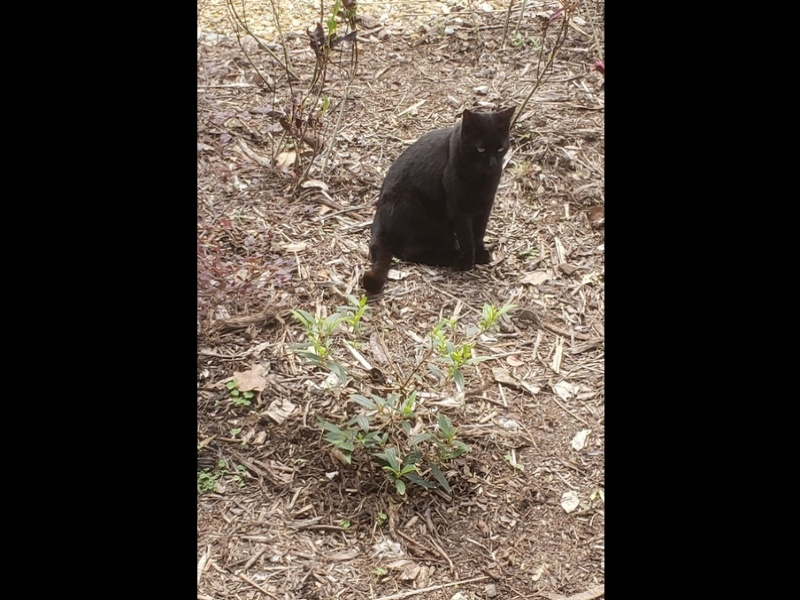cat: (359, 105, 518, 300)
